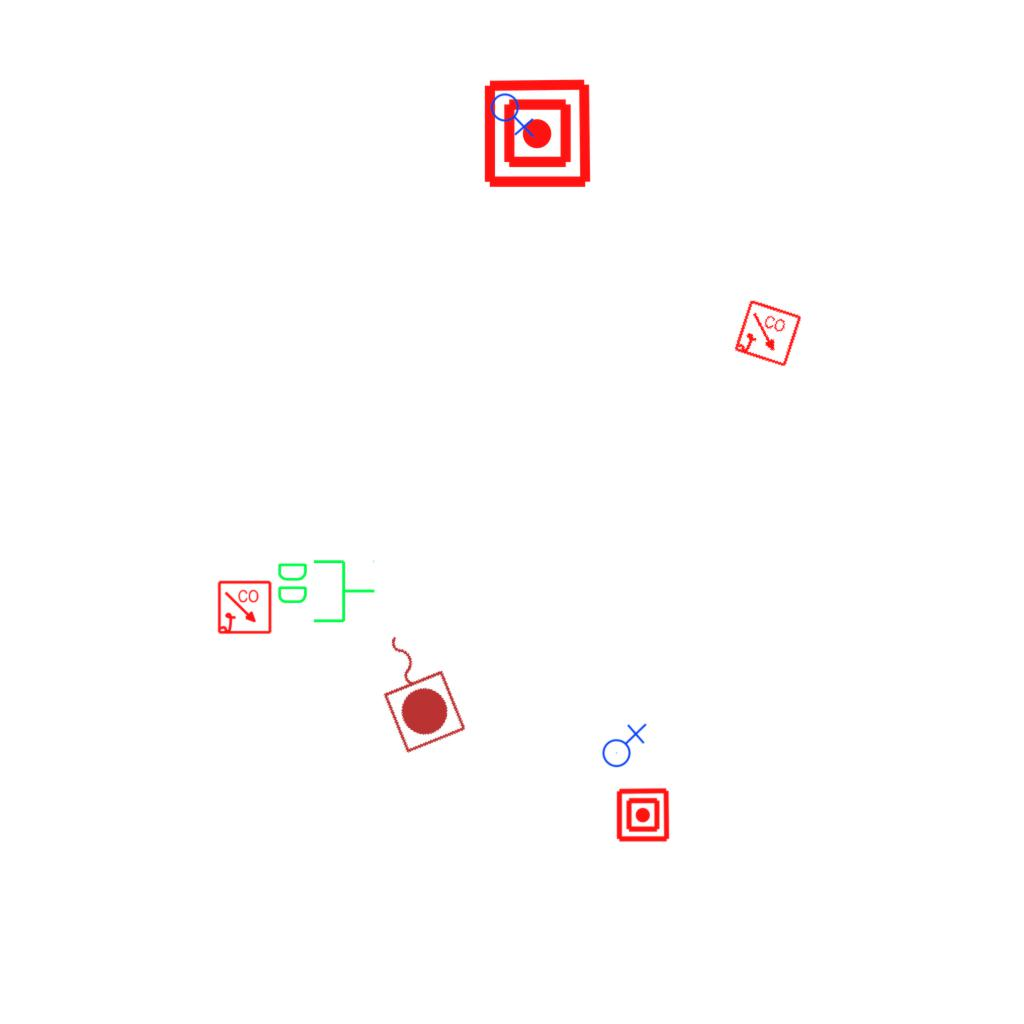Datenanschluss_zweifach: (274, 556, 377, 625)
Elektroanschluss_allgemein_230V_Geraeteanschlussdose_230V: (598, 721, 647, 768), (490, 89, 537, 138)
NAM-Nichtautomatischer_Melder: (481, 77, 594, 190), (615, 787, 671, 843)
ROA_Rauchmelder_optisch_mit_Signalgeber_(Sockelsirene): (732, 298, 804, 370), (217, 580, 273, 636)
Zugtaster: (359, 617, 473, 759)
